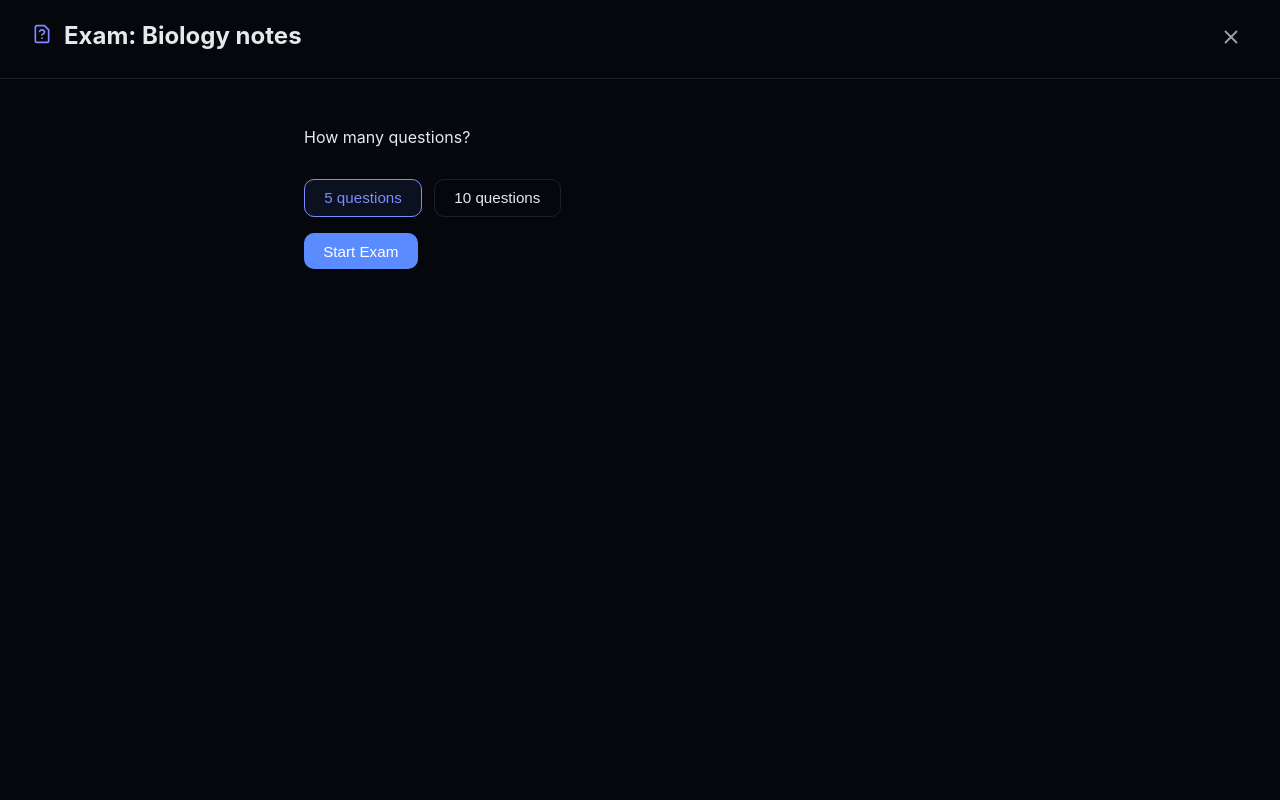
Test case: ExamModal › grades the exam, awards XP for correct answers, and shows the report
Click the button "Start Exam": (361, 251) 304,233 -> 418,269
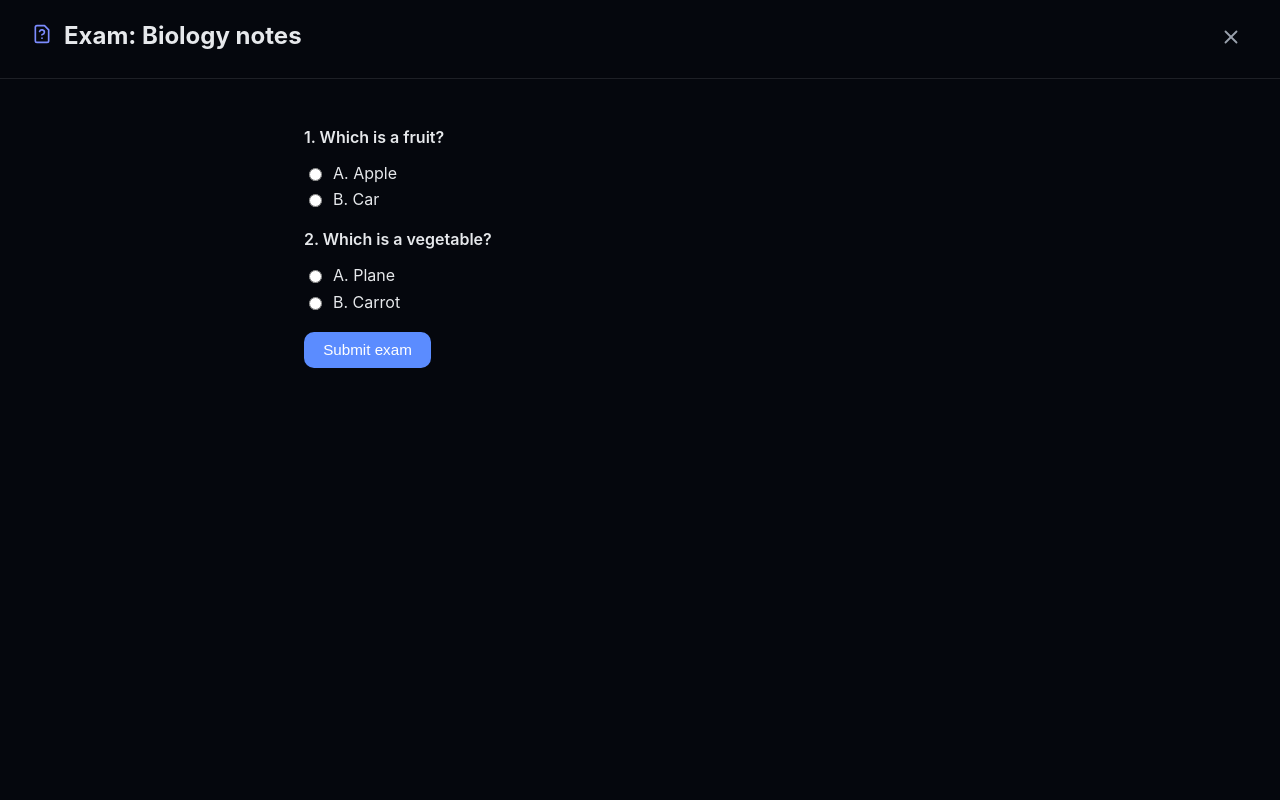
Check: the text "1. Which is a fruit?" is shown, box 304,127 -> 444,147
Click the radio button labelled "A. Apple": (316, 174) 309,168 -> 322,181
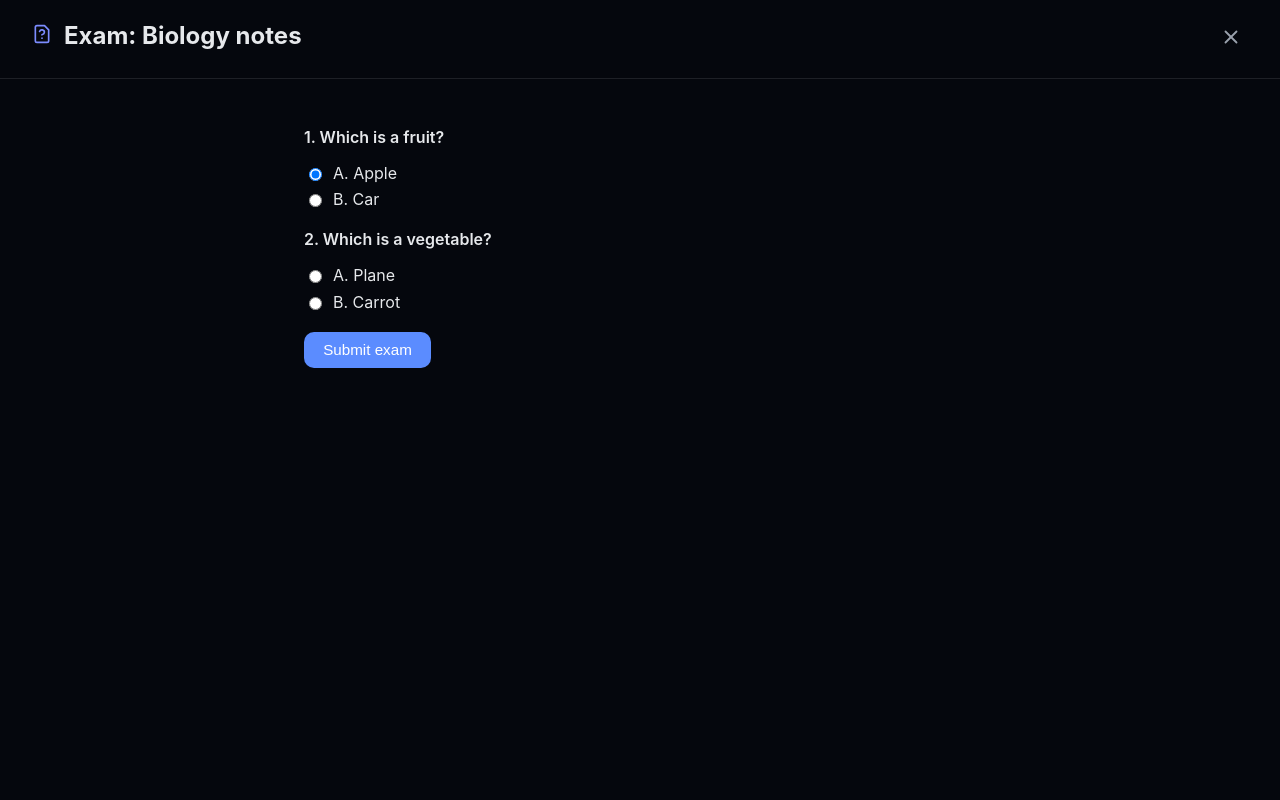
Click the radio button labelled "A. Plane": (316, 277) 309,270 -> 322,283
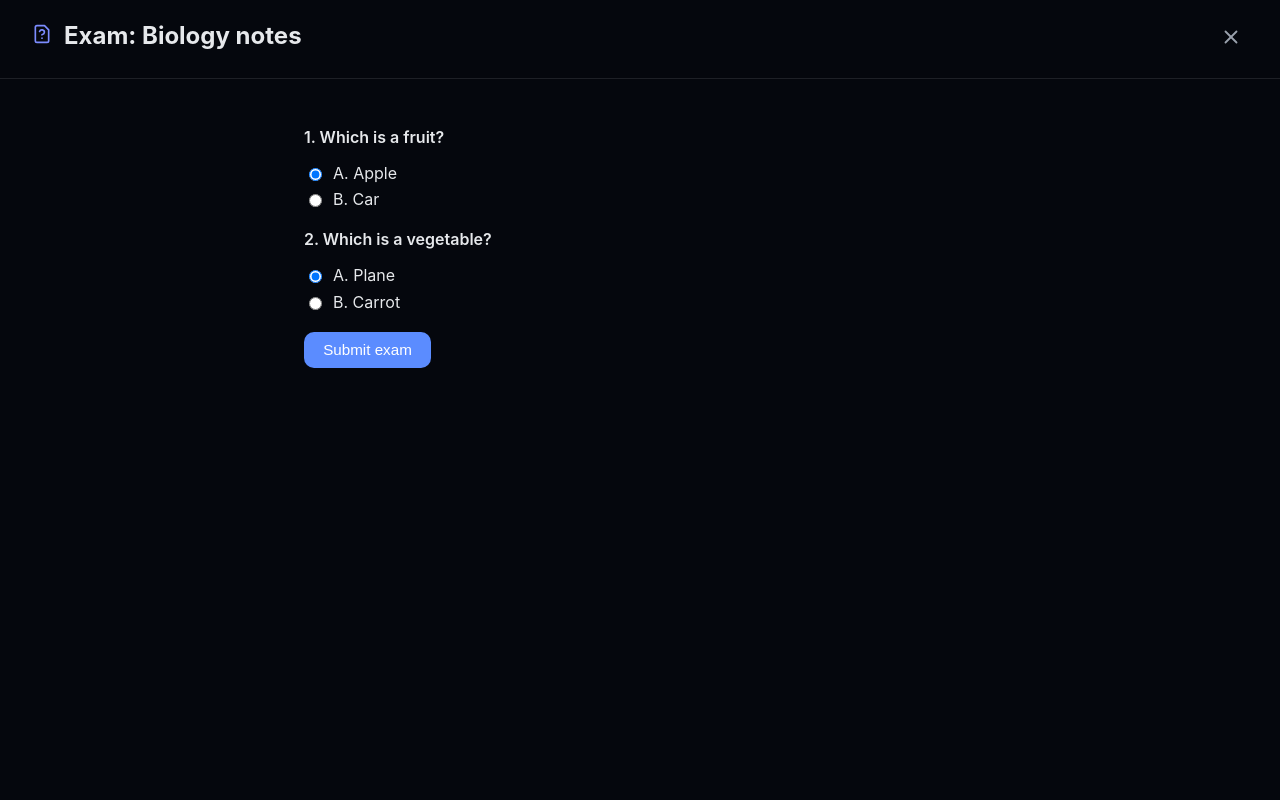
Click the button "Submit exam": (368, 350) 304,332 -> 431,368
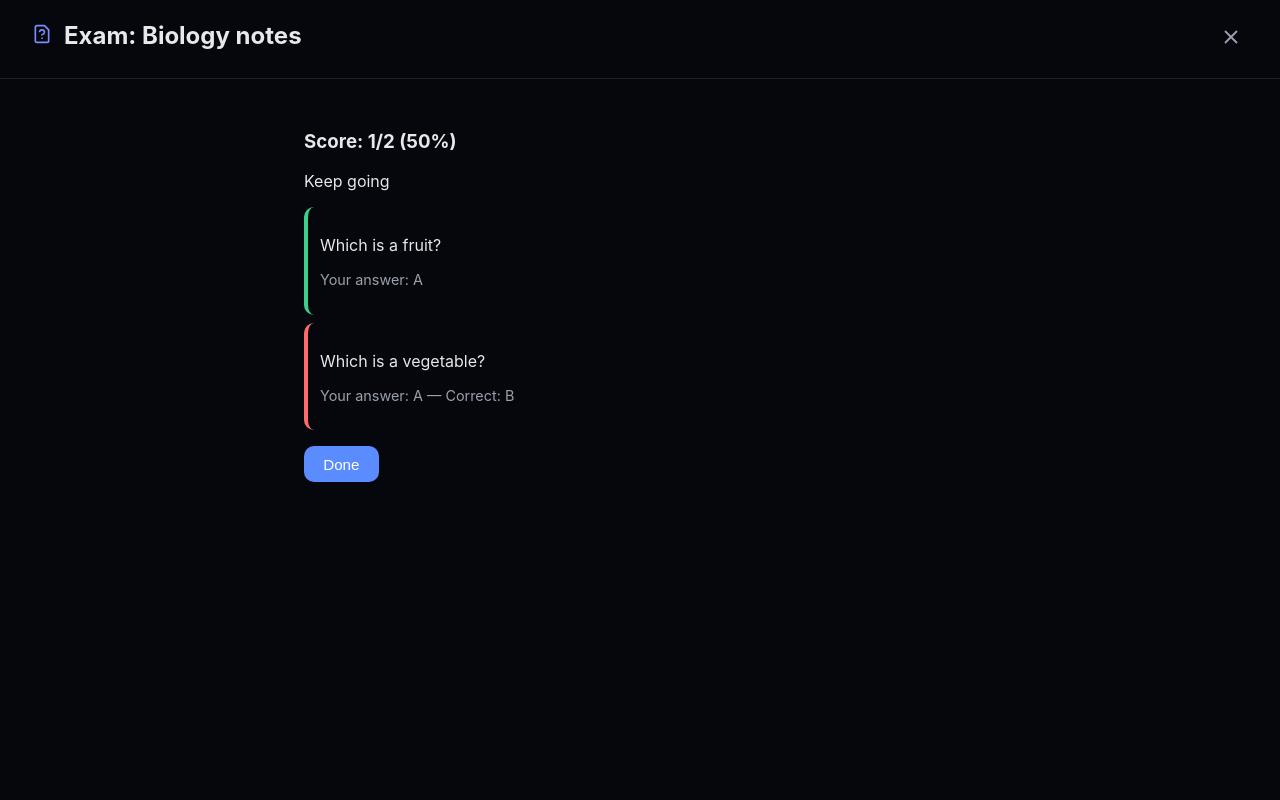
Check: the heading "Score: 1/2 (50%)" is shown, box 304,130 -> 457,152
